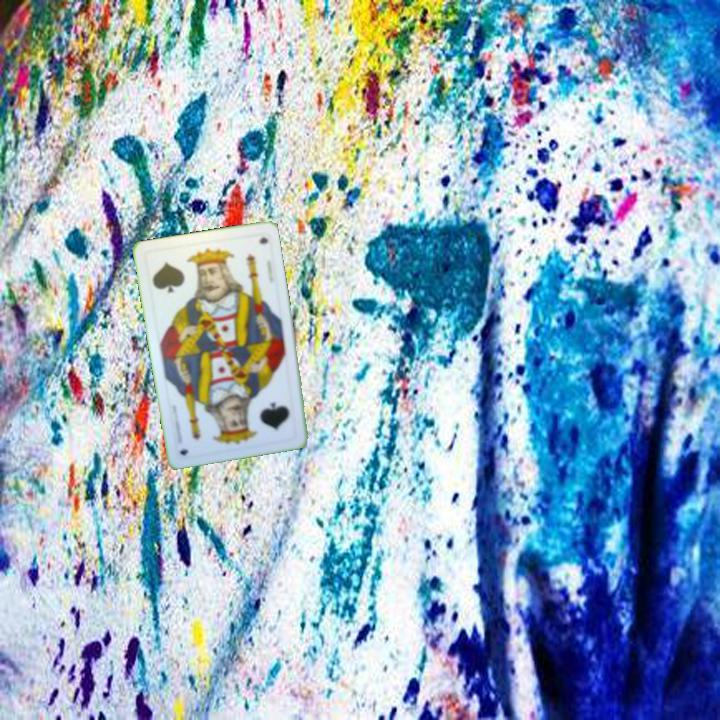s_k.png: (227, 382, 302, 449), (142, 240, 217, 307)
